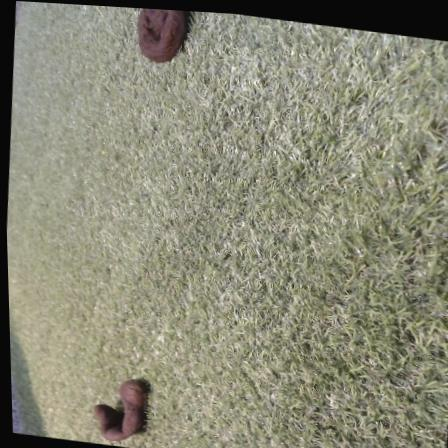dog-poop: (84, 371, 150, 446), (123, 6, 188, 69)
